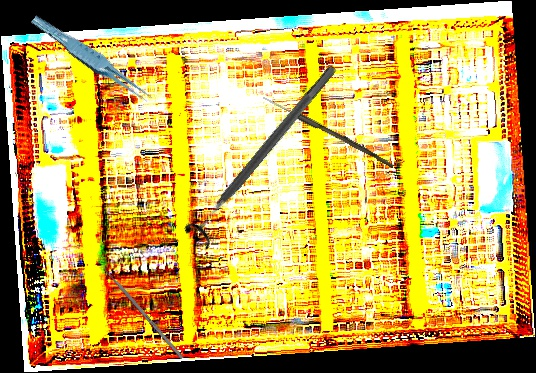Fixation Ring: (180, 57, 348, 251)
Pusher: (95, 258, 184, 360)
Surgical Spoon: (261, 95, 396, 168)
Tissue Forceps: (30, 6, 154, 113)
